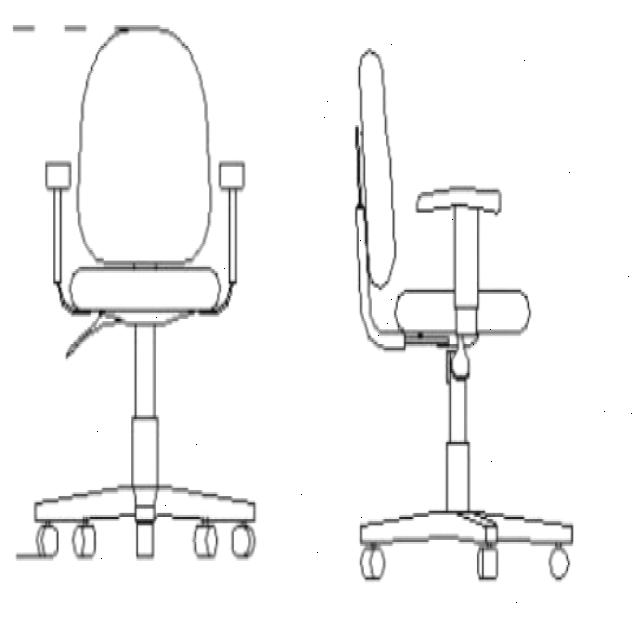5_Star_Base: (30, 474, 262, 572), (350, 498, 582, 593)
Armrest: (411, 182, 507, 314), (215, 153, 250, 288), (42, 153, 75, 290)
Backrest: (73, 21, 217, 273), (351, 41, 402, 296)
Base: (126, 308, 164, 500)
Control_Mechanism: (60, 298, 131, 370), (448, 326, 475, 388)
Seat: (66, 259, 224, 320), (391, 280, 534, 341)
